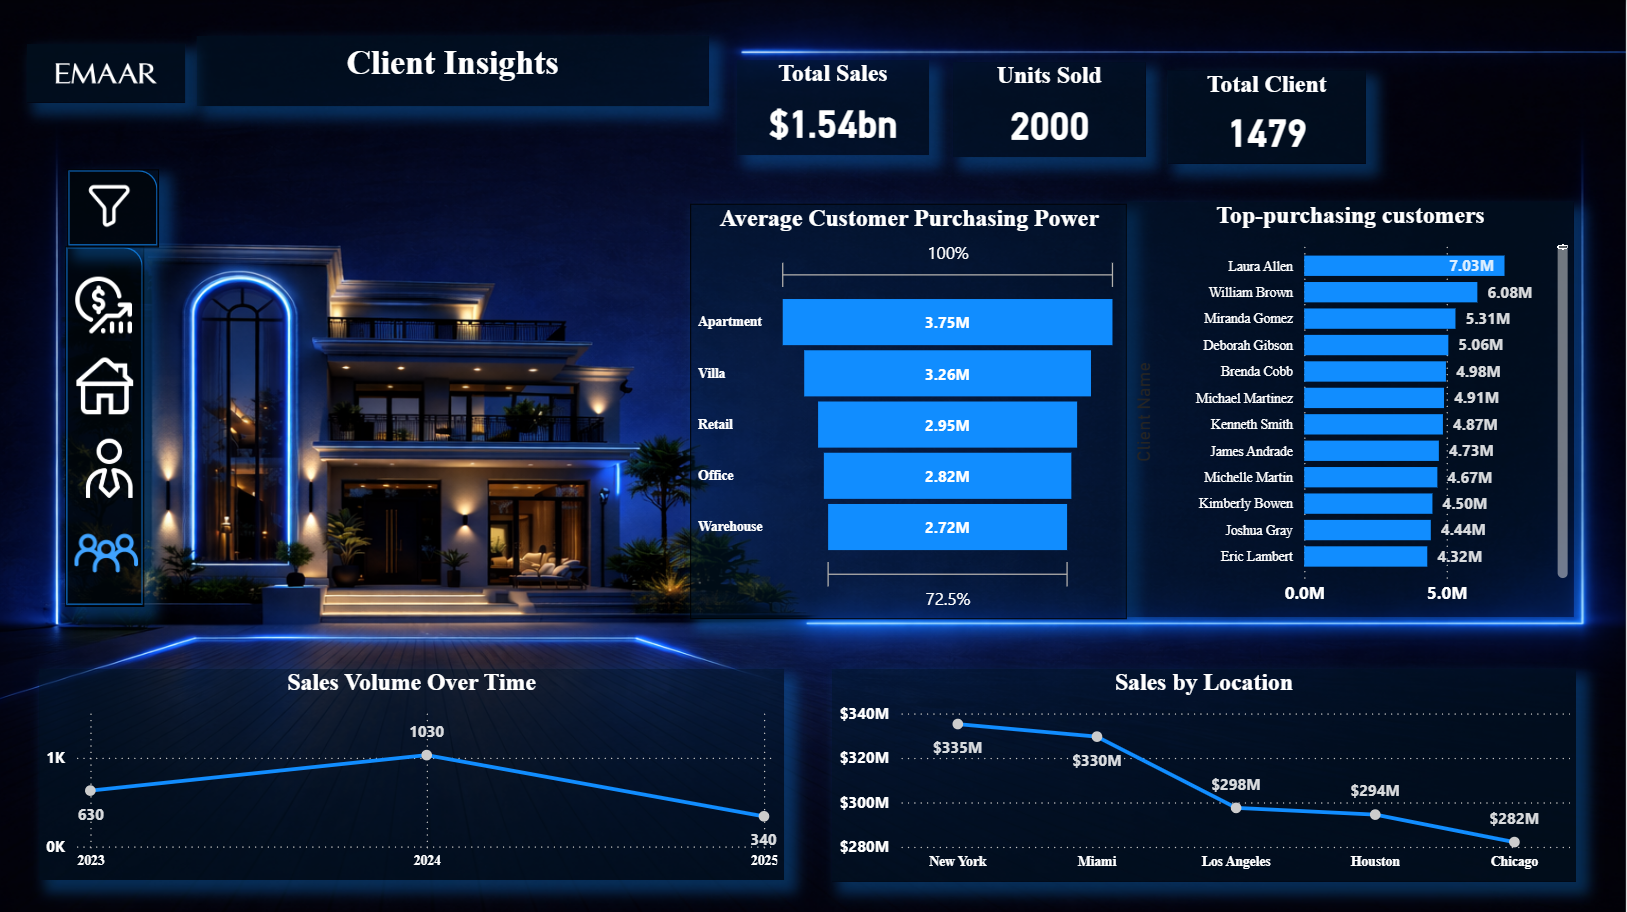

What the dashboard file says about the page in this screenshot:
{"tool":"powerbi","page":{"name":"Client Insights","canvas":[1280,720],"ordinal":3},"visuals":[{"type":"card","title":"Total Sales","fields":{"Values":["_All_Measures.Total Sales"]},"box":[580.6,47.7,151.1,74.8],"z":0},{"type":"card","title":"Units Sold","fields":{"Values":["_All_Measures.Units Sold"]},"box":[750.8,49.3,151.1,74.8],"z":1000},{"type":"card","title":"Total Client","fields":{"Values":["_All_Measures.total client"]},"box":[919.4,55.7,155.9,73.2],"z":2000},{"type":"lineChart","title":"Sales Volume Over Time","fields":{"Category":["Dim_Date.Date.Variation.Date Hierarchy.Year","Dim_Date.Date.Variation.Date Hierarchy.Month"],"Y":["_All_Measures.Units Sold"]},"box":[32.1,527.2,585.8,166.3],"z":3000},{"type":"funnel","title":"Average Customer Purchasing Power","fields":{"Category":["Properties.PropertyType"],"Y":["_All_Measures.Agent's average performance"]},"box":[544.3,160,343.1,326.6],"z":4000},{"type":"clusteredBarChart","title":"Top-purchasing customers","fields":{"Y":["Sum(Sales.SalePrice)"],"Category":["Clients.Client Name"]},"box":[887.4,158.4,351.3,326.6],"z":5000},{"type":"lineChart","title":"Sales by Location","fields":{"Category":["Properties.Location"],"Y":["_All_Measures.Total Sales"]},"box":[655.3,526.5,585.3,167],"z":6000},{"type":"shape","box":[53,194.8,62.2,283.3],"z":7000},{"type":"image","box":[50.7,217.8,63.3,44.4],"z":8000},{"type":"image","box":[53,281.1,62.2,44.4],"z":9000},{"type":"image","box":[55.2,342.2,62.2,53.3],"z":10000},{"type":"image","box":[55.2,410,57.8,50],"z":11000},{"type":"shape","box":[54.4,133.3,72.2,61.1],"z":12000},{"type":"image","title":"فلتر الغلق","box":[56,140,62,44],"z":15000},{"type":"image","box":[22,34.9,124.8,45.9],"z":16000},{"type":"textbox","box":[156,29.2,402.4,55.4],"z":17000}]}

Visuals, with their boxes in screenshot pixels (x1, y1, x2, y2), scaled from the page's 1280x720 canvas onto the 1627x912 screenshot:
"Total Sales" card: x1=738 y1=60 x2=930 y2=155
"Units Sold" card: x1=954 y1=62 x2=1146 y2=157
"Total Client" card: x1=1169 y1=71 x2=1367 y2=163
"Sales Volume Over Time" lineChart: x1=41 y1=668 x2=785 y2=878
"Average Customer Purchasing Power" funnel: x1=692 y1=203 x2=1128 y2=616
"Top-purchasing customers" clusteredBarChart: x1=1128 y1=201 x2=1575 y2=614
"Sales by Location" lineChart: x1=833 y1=667 x2=1577 y2=878
shape: x1=67 y1=247 x2=146 y2=606
image: x1=64 y1=276 x2=145 y2=332
image: x1=67 y1=356 x2=146 y2=412
image: x1=70 y1=433 x2=149 y2=501
image: x1=70 y1=519 x2=144 y2=583
shape: x1=69 y1=169 x2=161 y2=246
"فلتر الغلق" image: x1=71 y1=177 x2=150 y2=233
image: x1=28 y1=44 x2=187 y2=102
textbox: x1=198 y1=37 x2=710 y2=107
